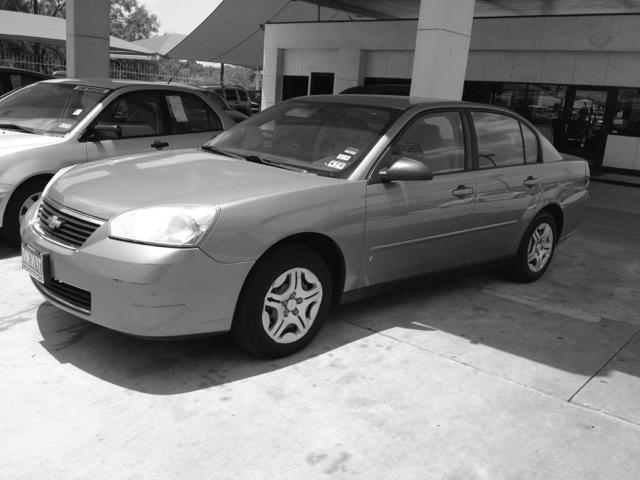car: (24, 98, 590, 343)
